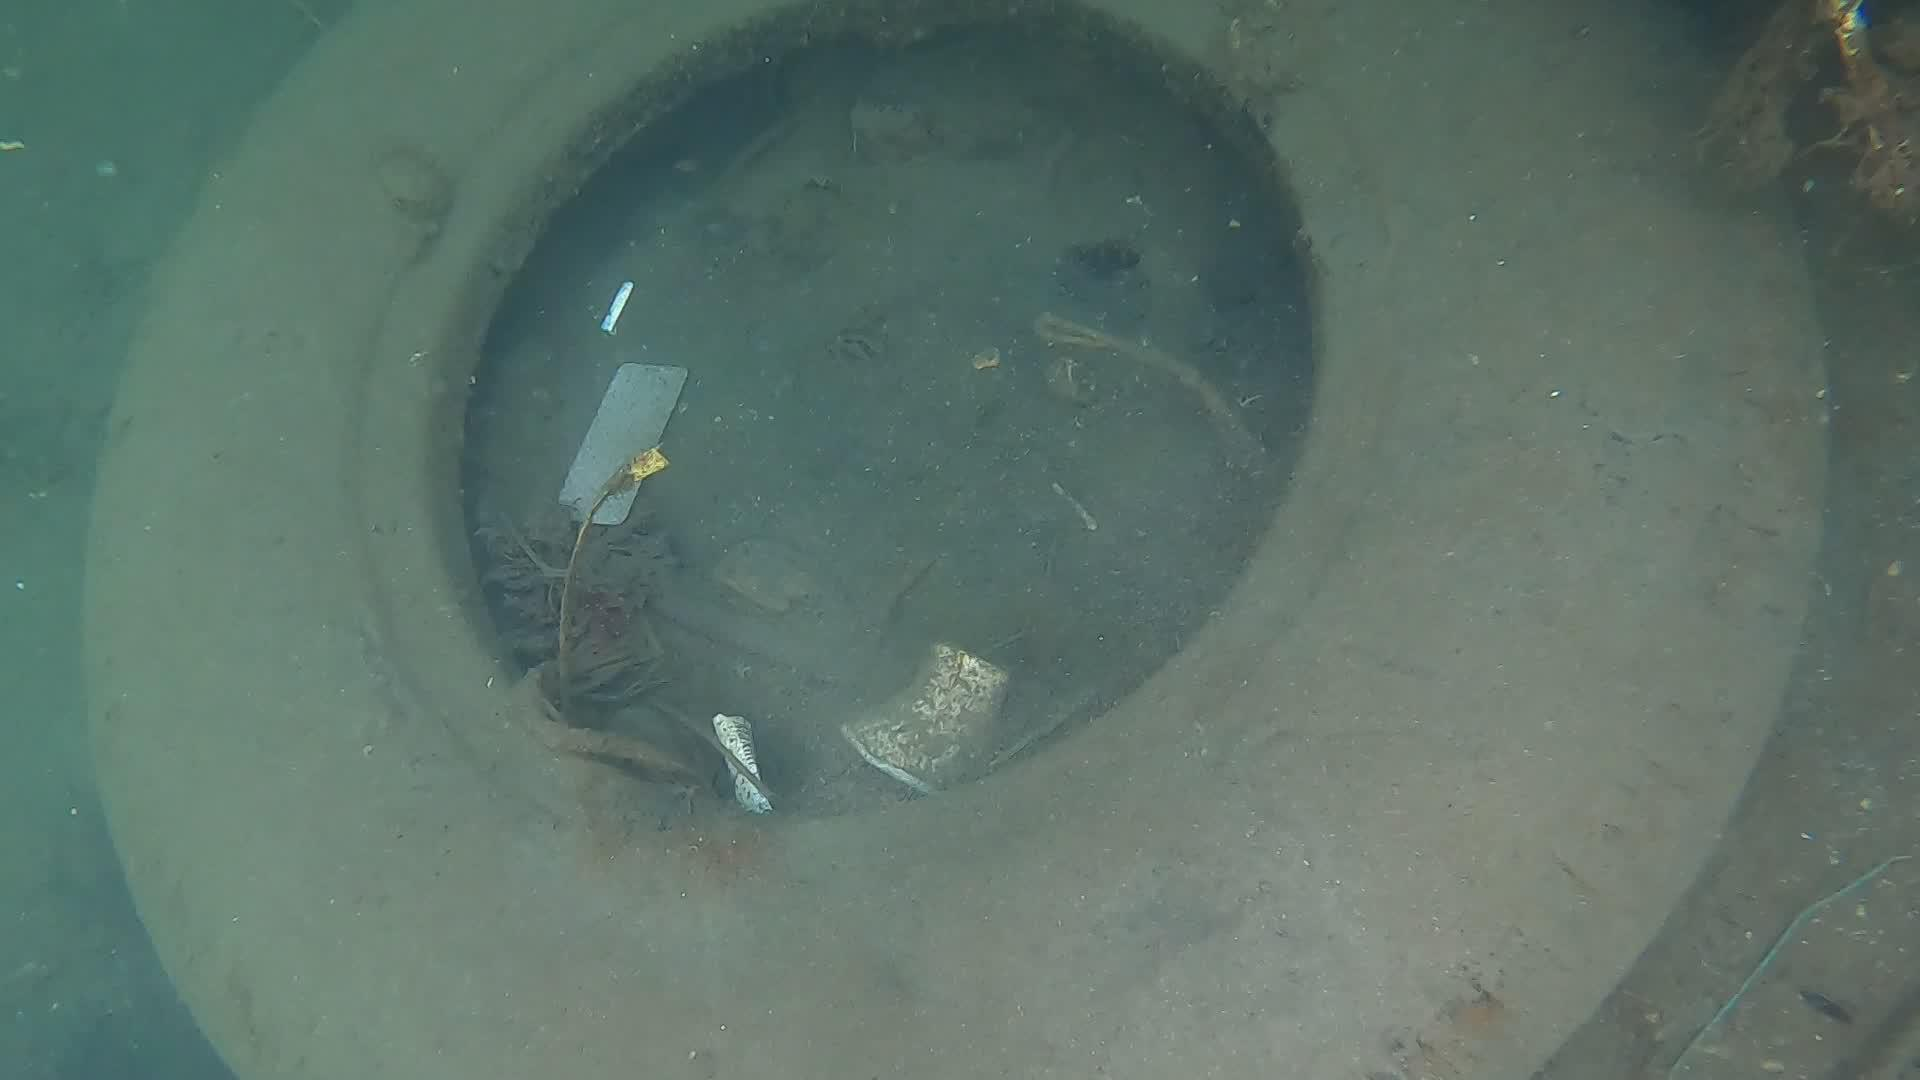tire: (73, 0, 1837, 1080)
